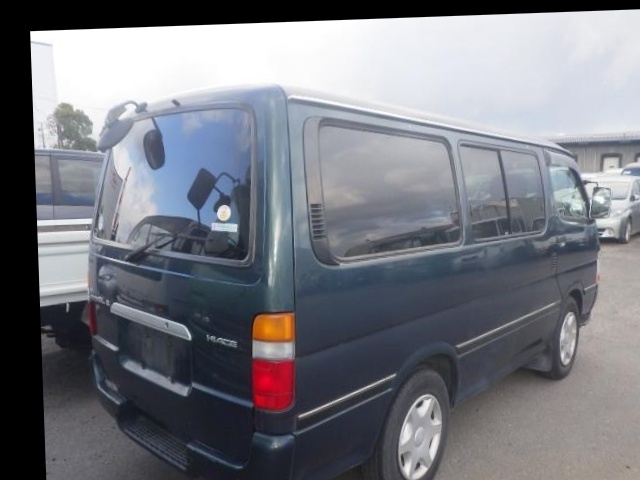van: (96, 72, 608, 480)
